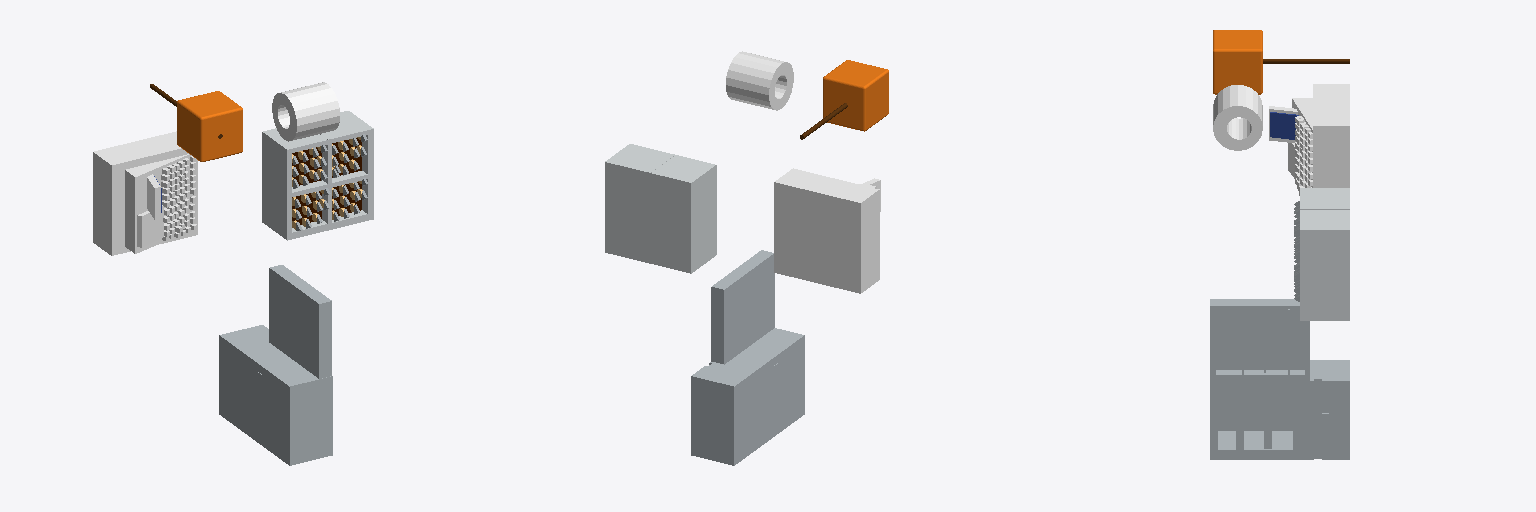
Rendered from tinker.obj.
3 renders of one model, left to right at view 1: azimuth 30°, elevation 25°; view 2: azimuth 150°, elevation 25°; view 3: azimuth 270°, elevation 25°, orthographic.
Visible parts, largest first — view 1: obj_0; view 2: obj_0; view 3: obj_0.
Part boxes in pixels (x1,y1,x2,y2): obj_0: (93, 82, 373, 465); obj_0: (605, 51, 888, 465); obj_0: (1210, 30, 1349, 459).
Bounding box in the file's own units: 118 × 162 × 56.23.